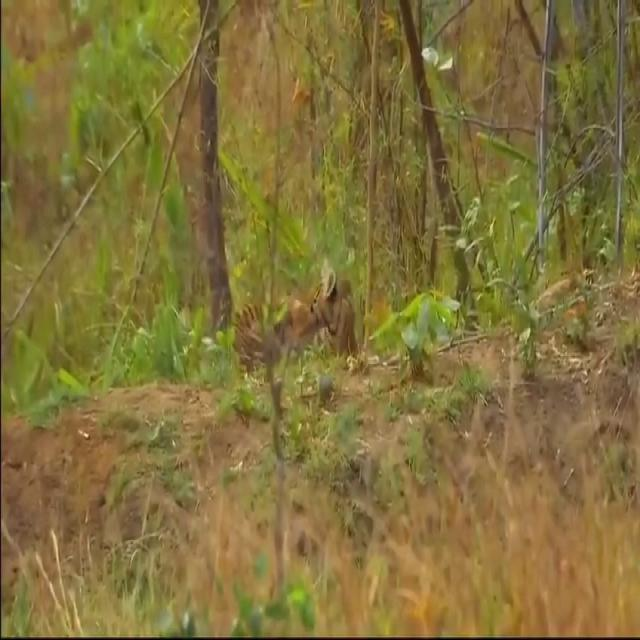tiger: (233, 262, 356, 360)
